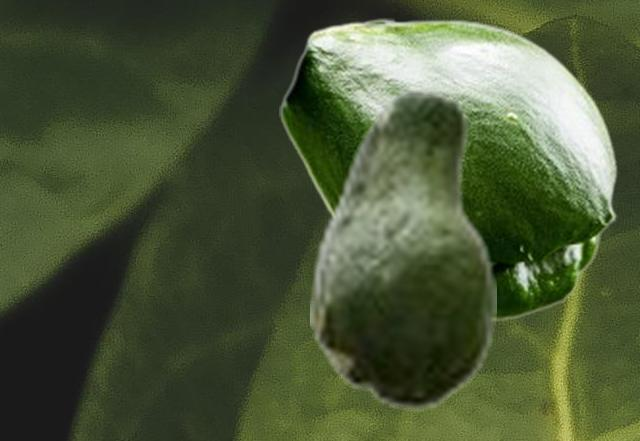sayote: (279, 18, 617, 320), (310, 87, 495, 411)
